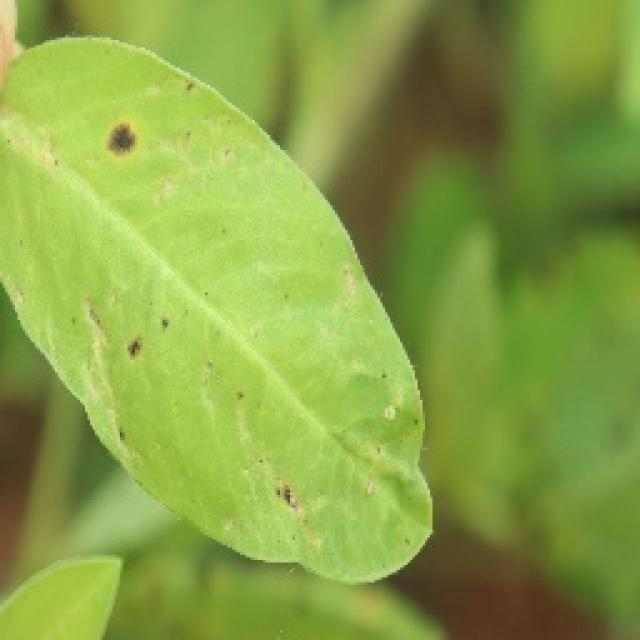Early_leaf_spot: (85, 98, 164, 190), (104, 300, 196, 378), (258, 478, 338, 554), (84, 401, 149, 465), (214, 378, 271, 434)
